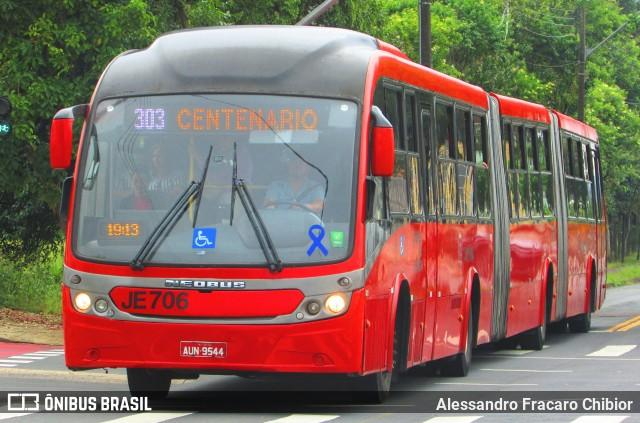CENTENARIO: (171, 101, 321, 135)
